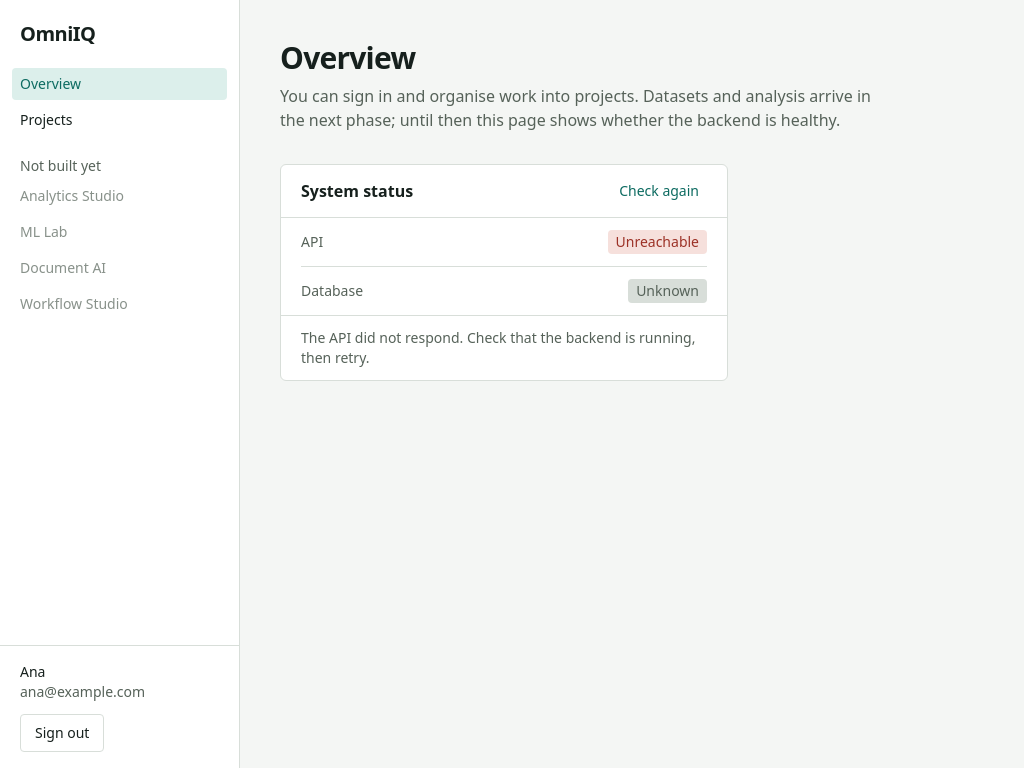
Test: StatusPanel › shows an actionable error when the API is unreachable, and can retry
Expected: the text "Unreachable" is shown, [608,230,707,254]
Expected: the message shows "backend is running", [301,328,695,367]
Click the button "Check again" at {"x": 659, "y": 191}, box [611,177,707,205]
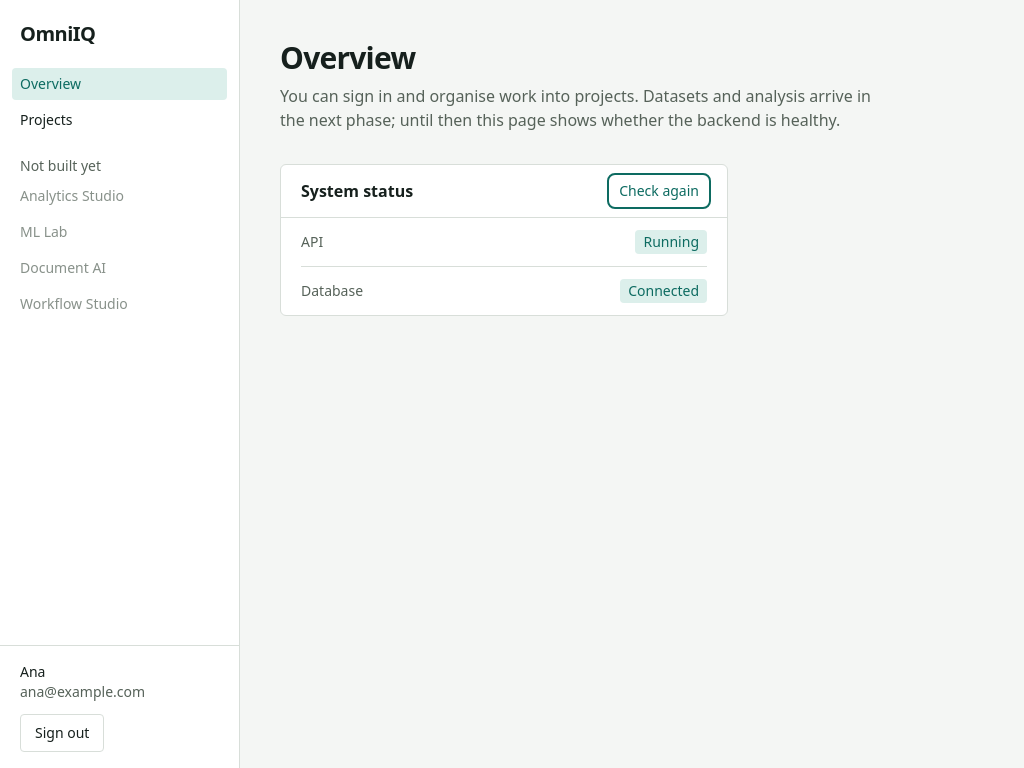
Expected: the text "Connected" is shown, [620,279,707,303]
